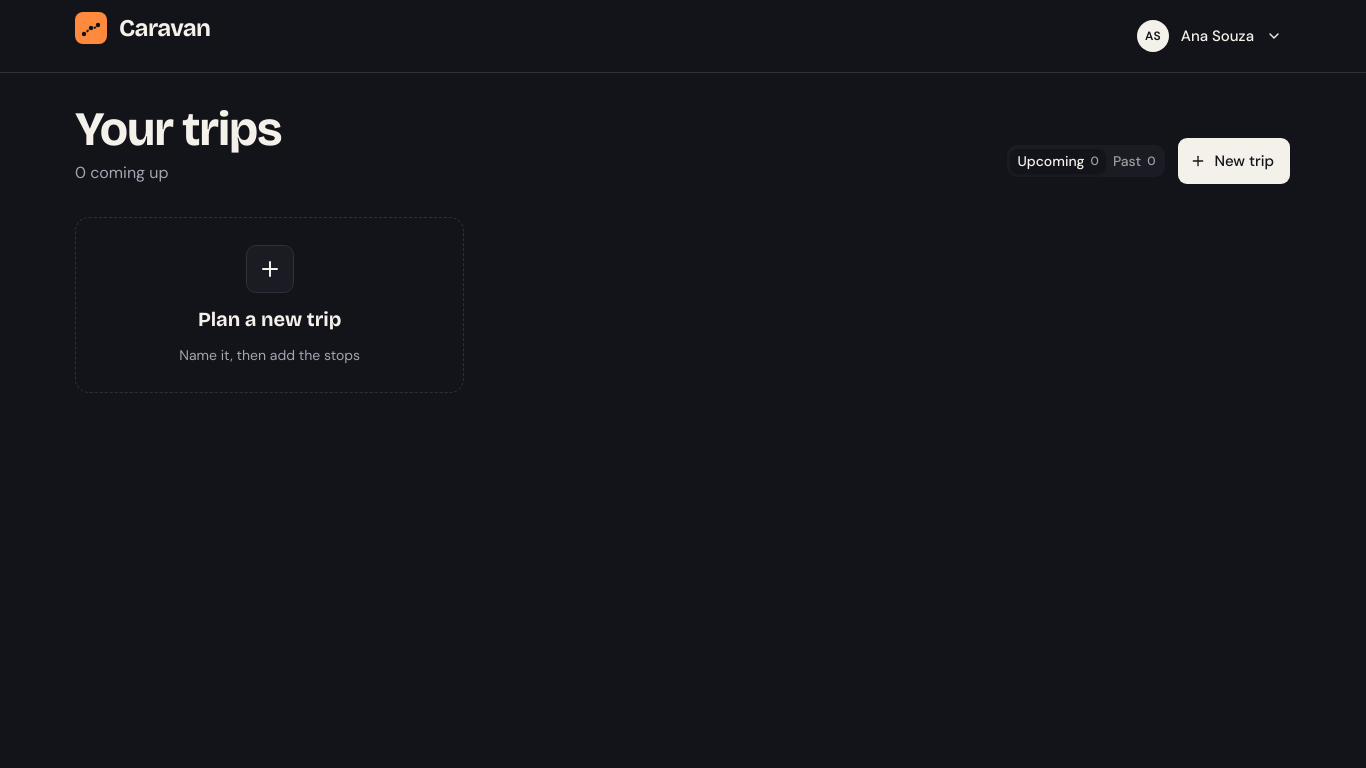
the new trip dialog › opens with the name focused
This screenshot has width=1366, height=768.
Expected: the tab "Upcoming 0" is shown, [1010,148,1106,174]
Click the button "New trip".
click(1234, 161)  # box [1177,137,1291,185]
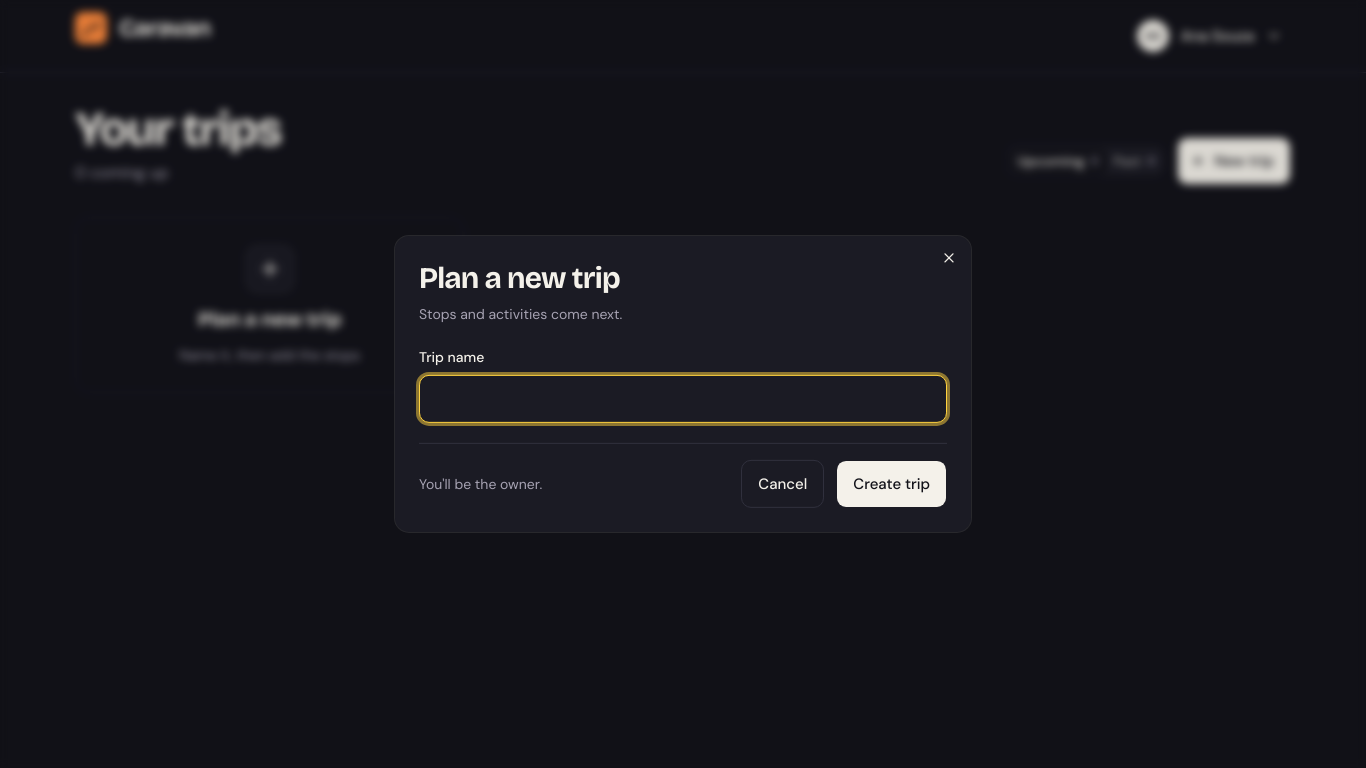
Expected: the dialog "Plan a new trip" is shown, [395,236,971,532]
